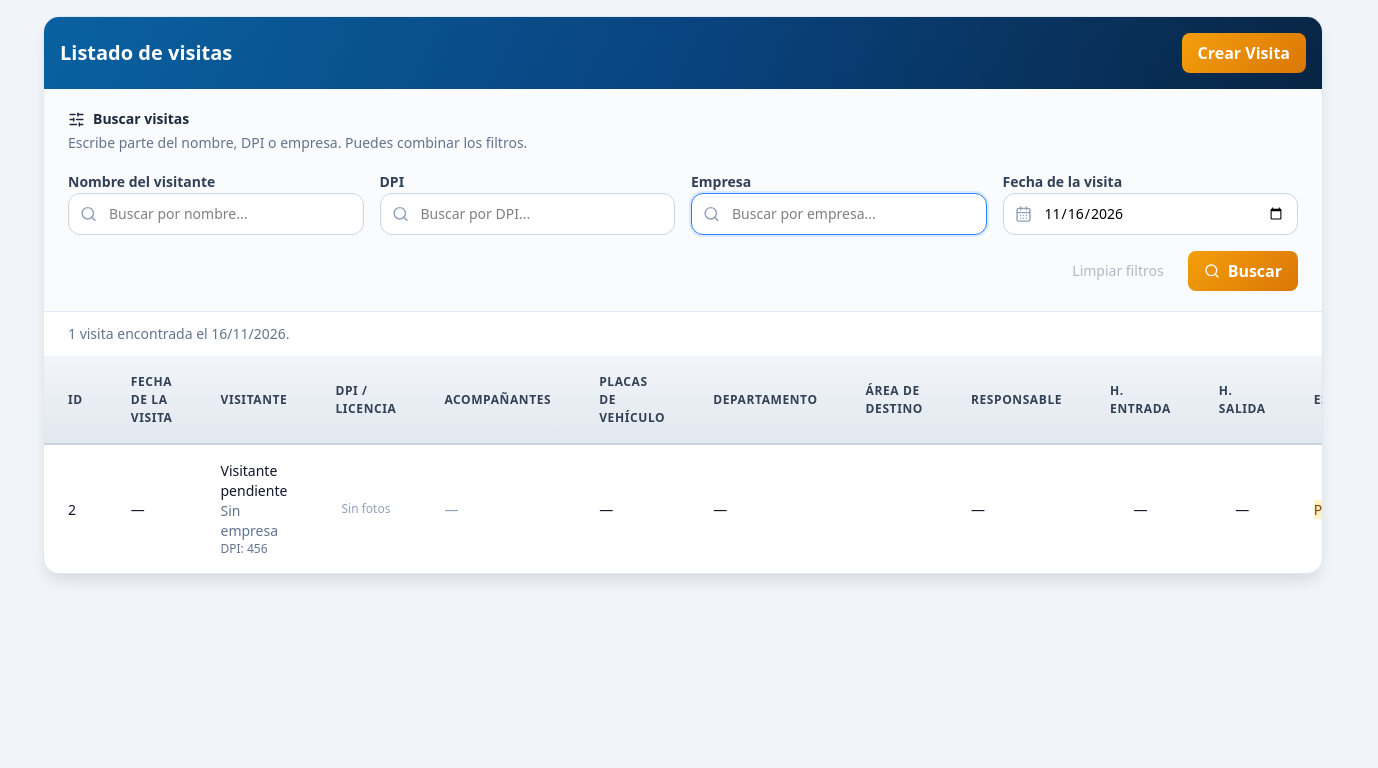
vigencia del estado de las visitas › permite seguir escribiendo en Buscar por empresa... mientras se consulta el filtro
Later steps or results of the test are not shown.
In the field with placeholder "Buscar por empresa...": (839, 214) [691,193,986,235], type "E"
Wait 450 ms
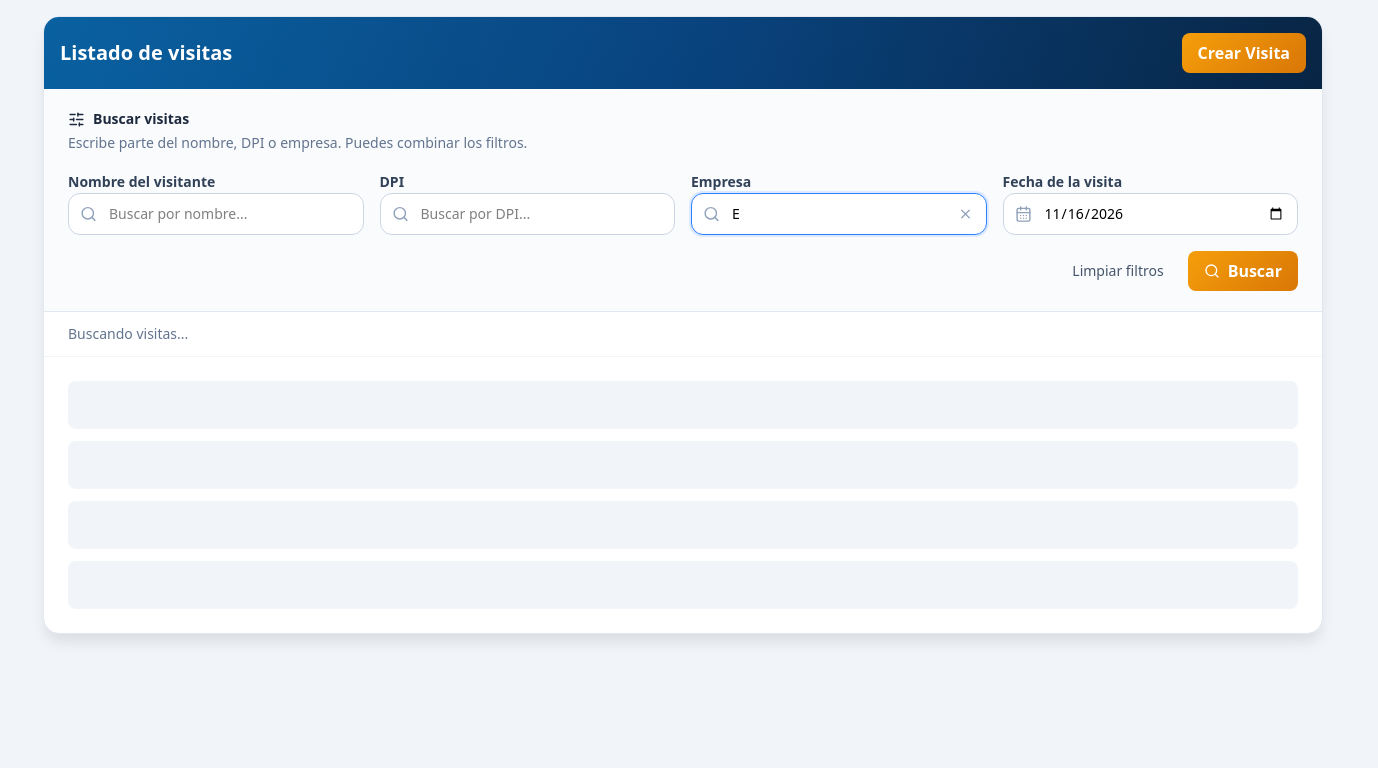
Check: the message reads "Buscando visitas...", box [68,324,188,343]
